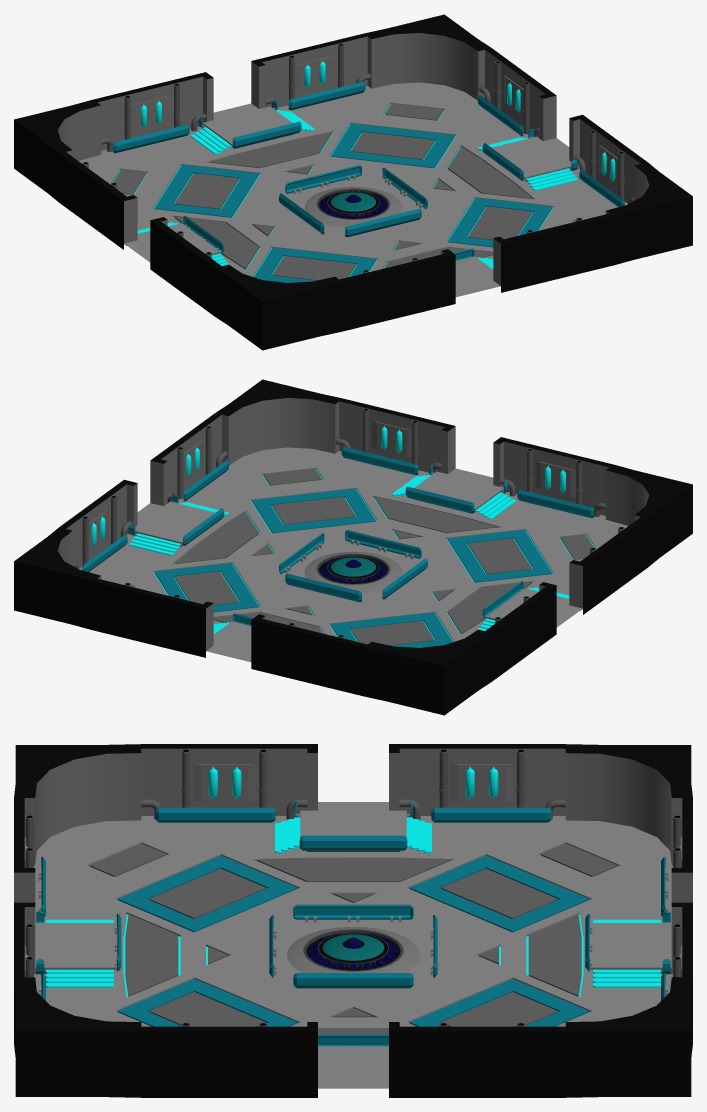
File: HologramRoom.fbx
3 views of the same model, one above another, from view 1: azimuth 30°, elevation 25°; view 2: azimuth 150°, elevation 25°; view 3: azimuth 270°, elevation 25° (orthographic). The views are drawn at different scales.
Parts seen in each view (by area): view 1: HologramRoom, HologramRoomStairs, HologramRoomGlass, HologramRoomLights; view 2: HologramRoom, HologramRoomStairs, HologramRoomGlass, HologramRoomLights; view 3: HologramRoom, HologramRoomStairs, HologramRoomGlass, HologramRoomLights.
Part boxes in pixels (<box>): HologramRoom: <box>14,14,692,350</box>; HologramRoomStairs: <box>137,110,577,269</box>; HologramRoomGlass: <box>141,61,615,181</box>; HologramRoomLights: <box>112,104,573,276</box>; HologramRoom: <box>14,379,692,715</box>; HologramRoomStairs: <box>129,475,569,634</box>; HologramRoomGlass: <box>91,426,565,546</box>; HologramRoomLights: <box>133,469,594,641</box>; HologramRoom: <box>14,744,692,1097</box>; HologramRoomStairs: <box>45,817,661,987</box>; HologramRoomGlass: <box>26,766,680,956</box>; HologramRoomLights: <box>89,855,617,1023</box>.
Bounding box in the file's own units: 3200 × 371 × 3200.
